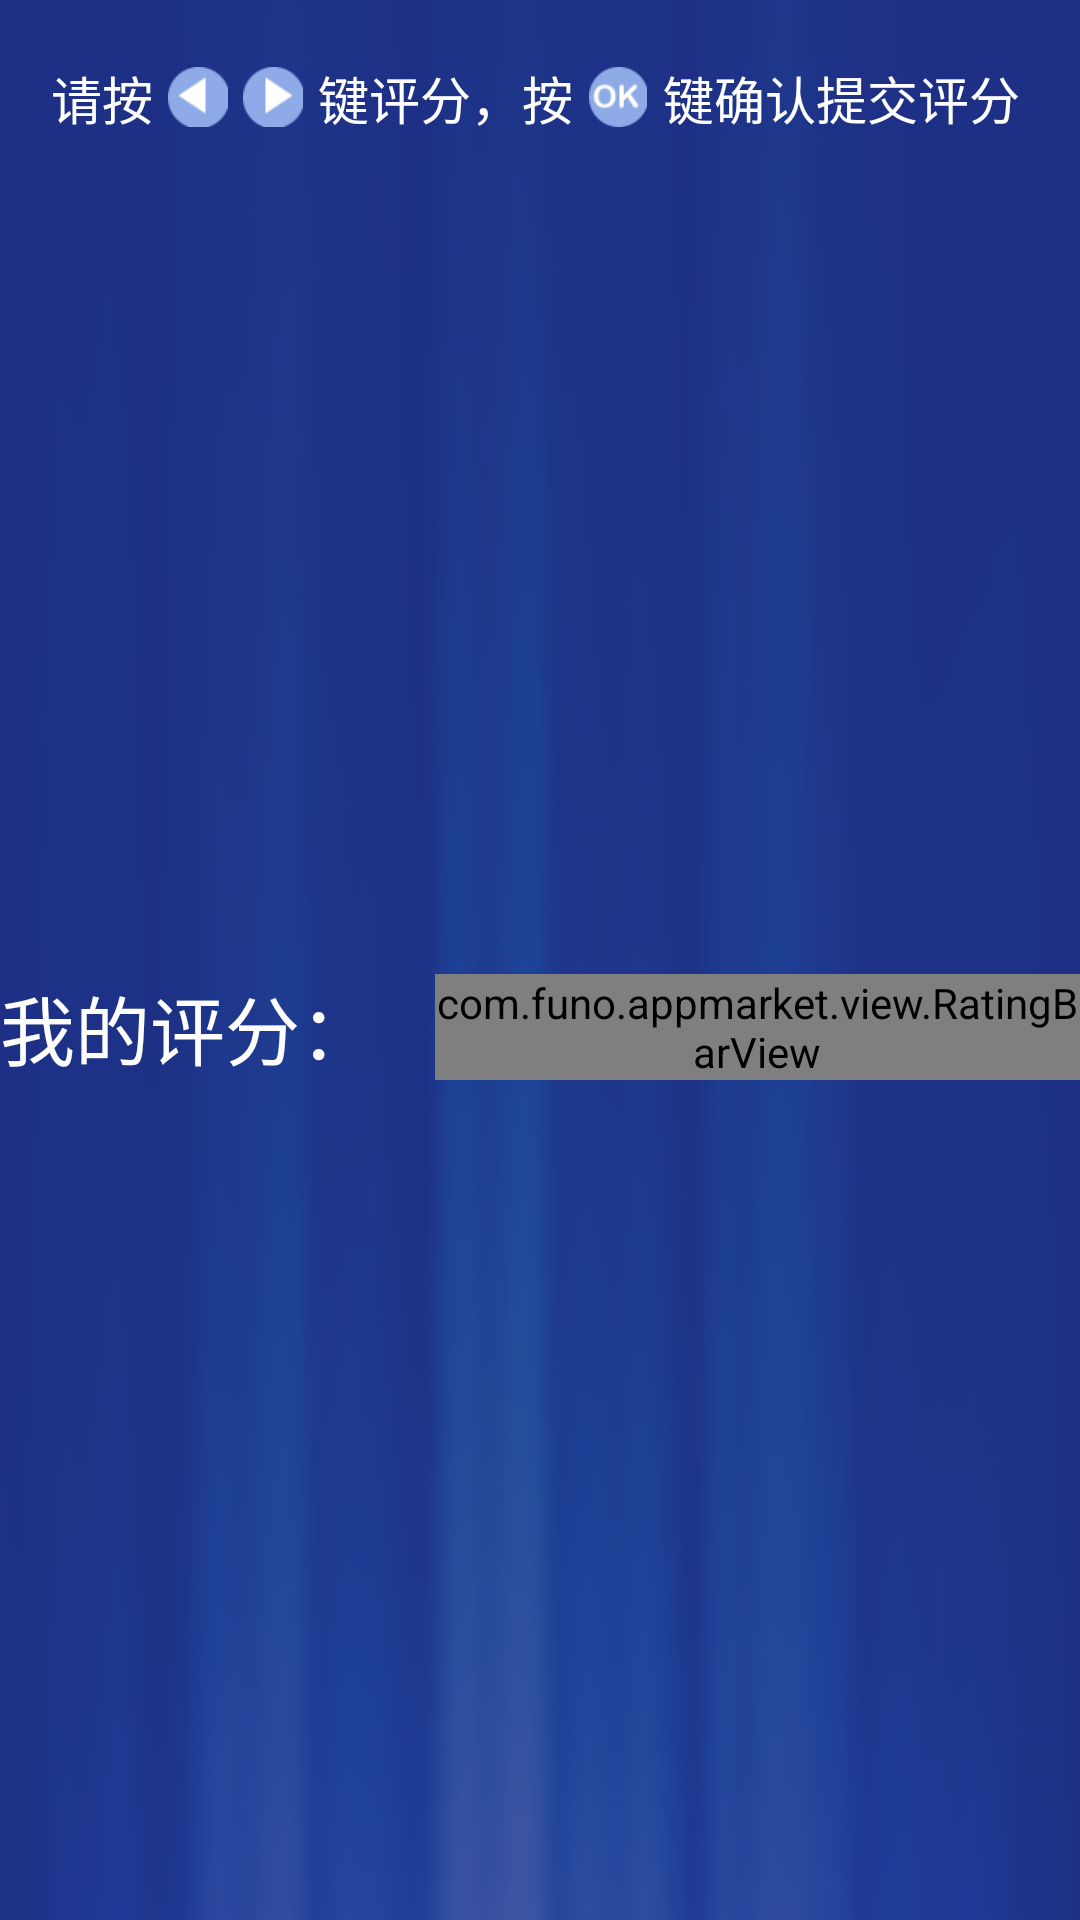

Named icons in this screenshot (1080 × 1920) and their centers, (x,y):
left: (198,97)
right: (273,97)
